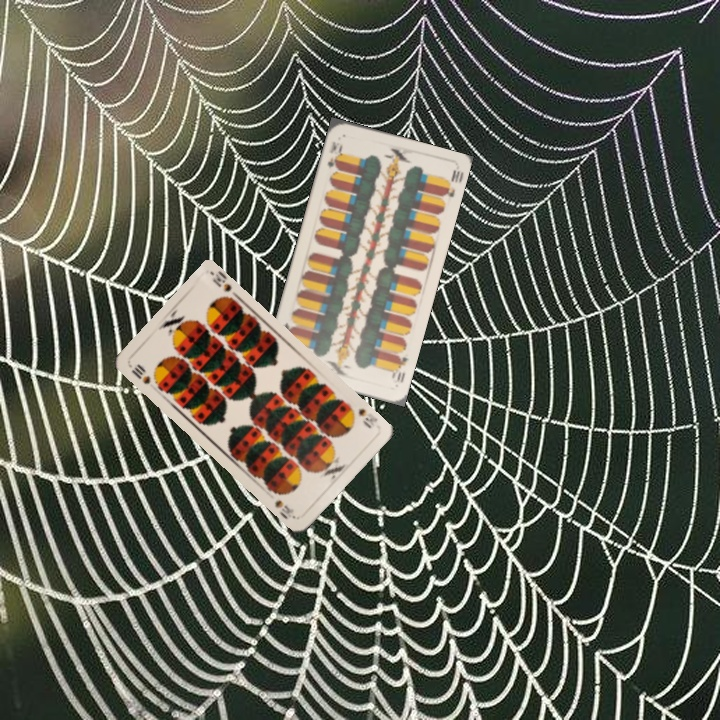E10: (323, 137, 345, 175), (387, 352, 412, 385)
S10: (345, 402, 380, 431), (127, 360, 153, 387)
